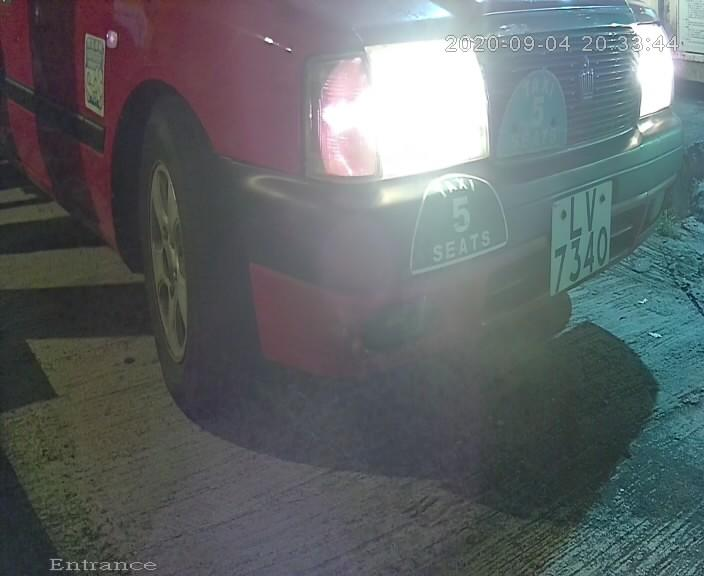License Plate: (538, 168, 623, 299)
